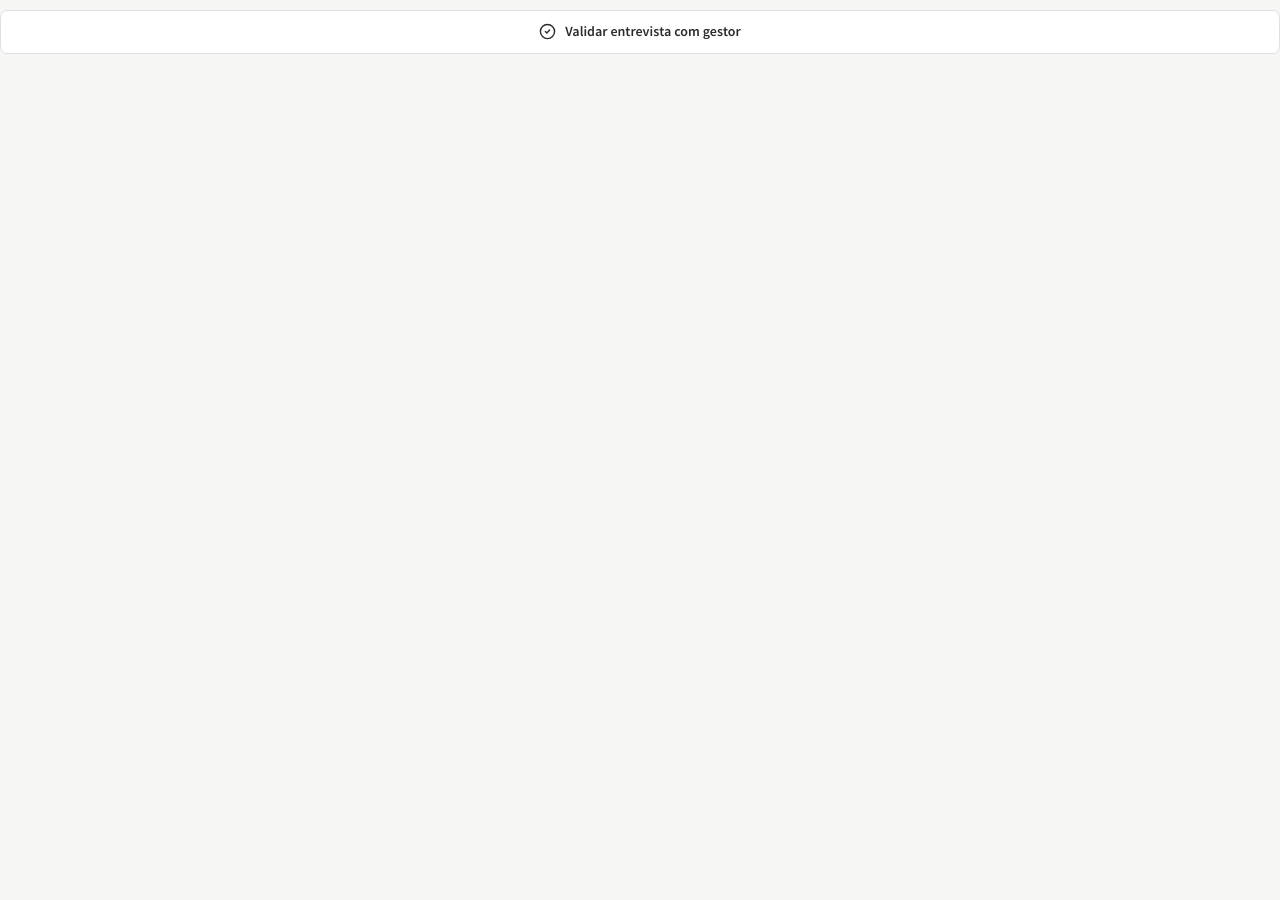
Scenario: records the selected scheduled interview as completed
Click the button "Validar entrevista com gestor" at (640, 32), box [0,10,1279,54]
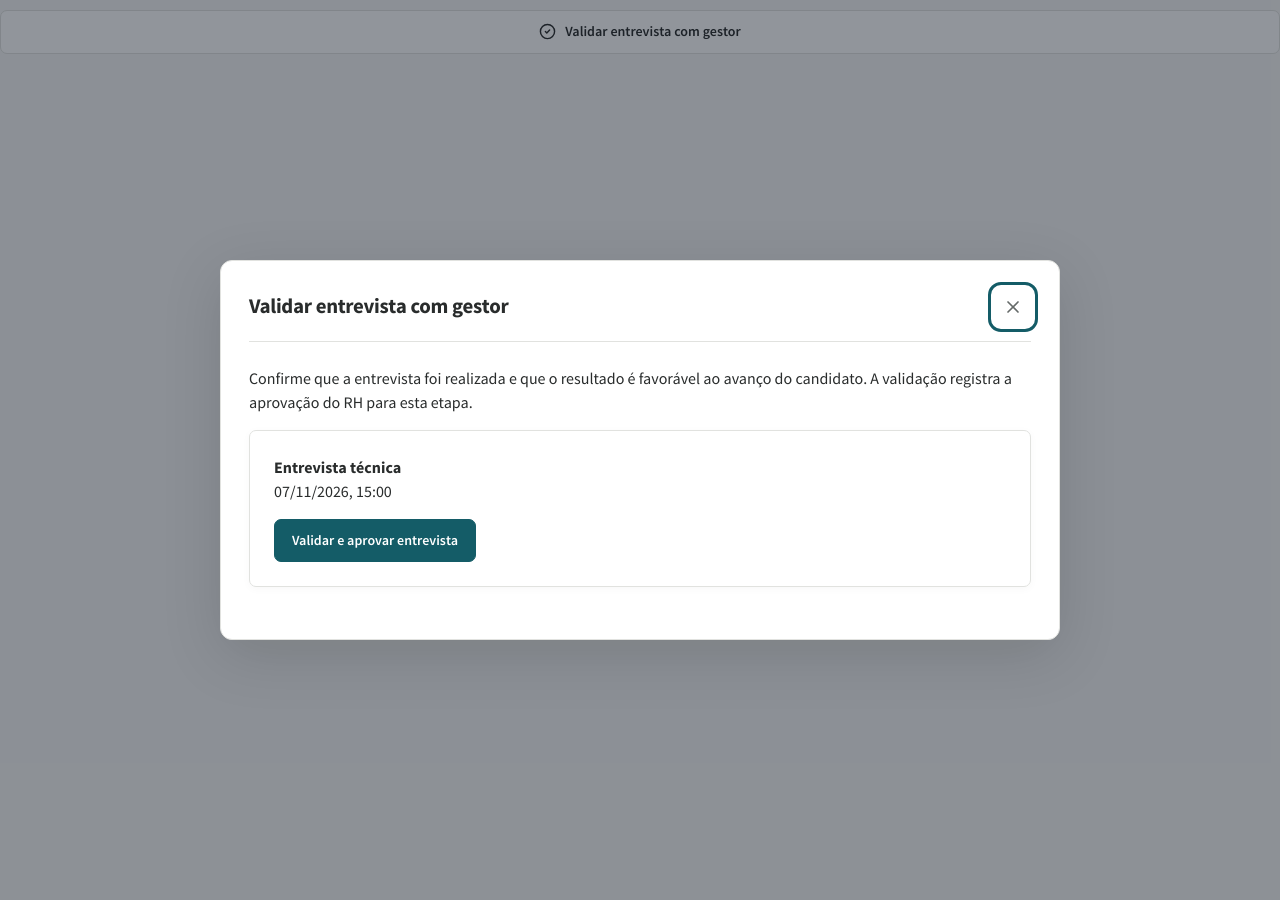
Click the button "Validar e aprovar entrevista" at (375, 540), box [274,519,476,562]
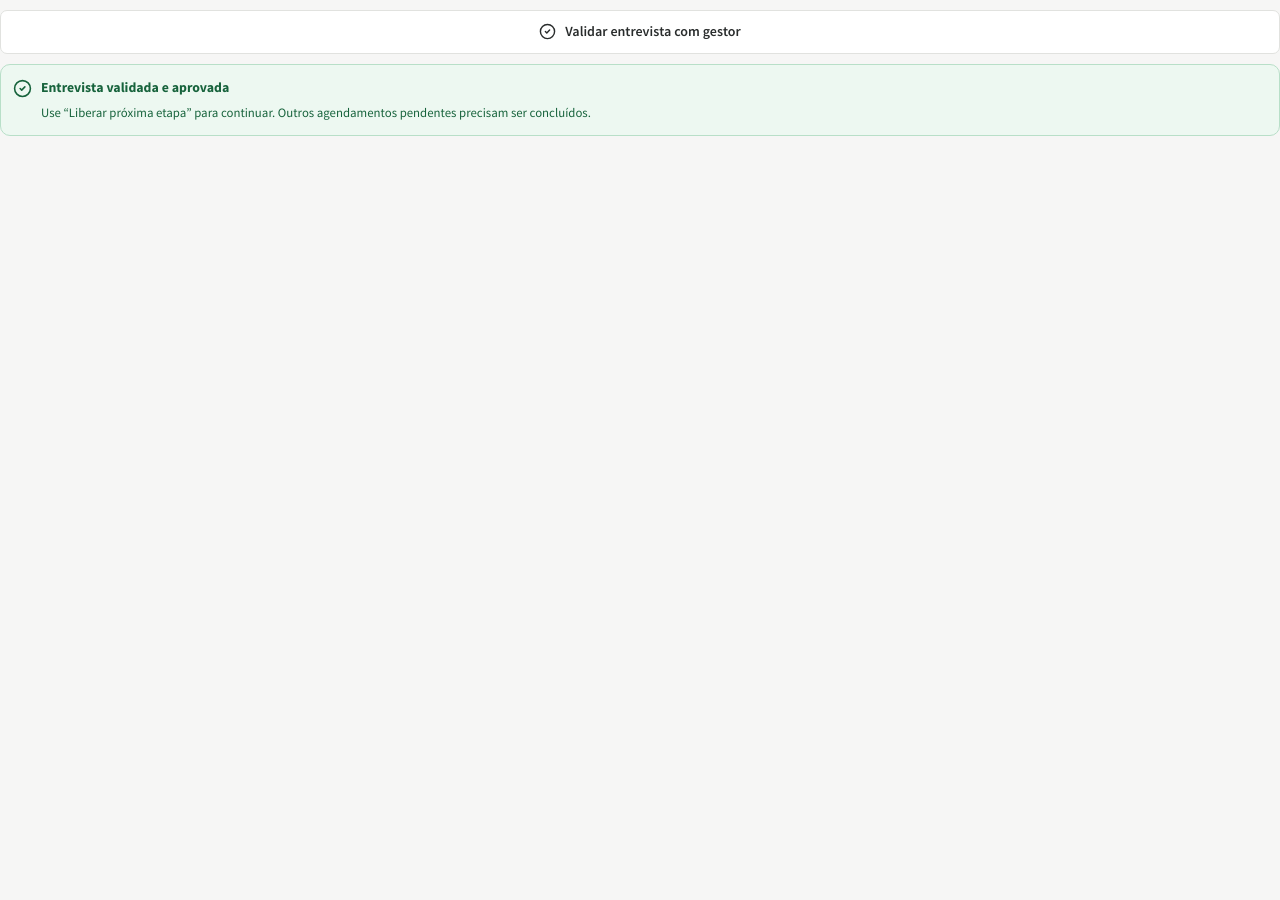
Check: the message shows "Entrevista validada e aprovada", box [41,78,229,96]
